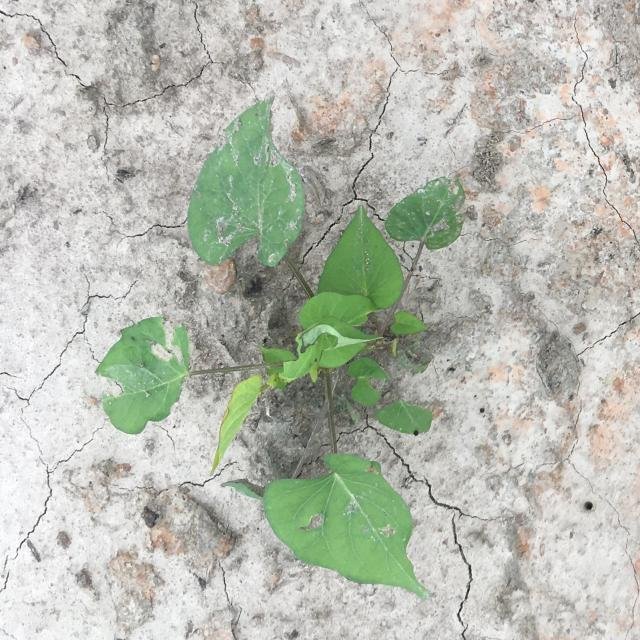MorningGlory: (95, 93, 466, 600)
